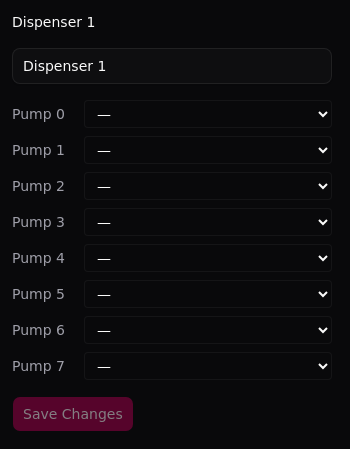
Test: AgentsSettings — Save Changes button › is enabled when a pump selection changes
Step 1. Select "Rum" in the 1st dropdown → (208,114), box [84,100,332,128]
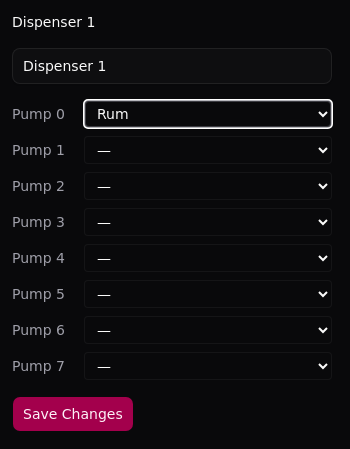
Now the button "Save Changes" is enabled, box [12,396,134,432]
